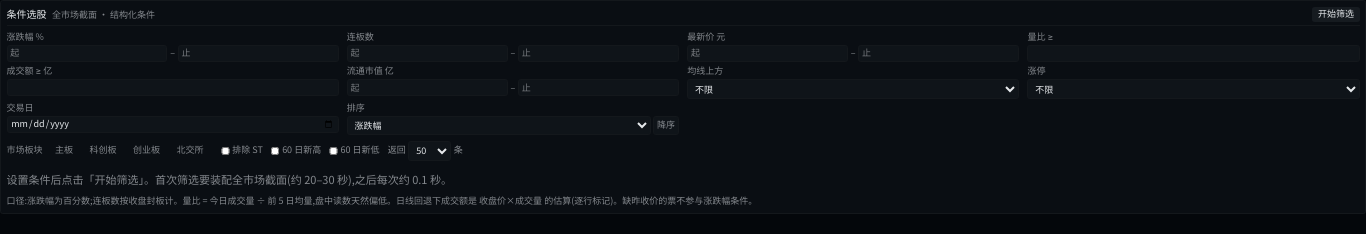
it: AshareScreenPanel › reports an empty cross-section as a data problem, not 'no match'
Step 1. Click the button with test id "screen-run" → (1336, 14), box [1312,6,1360,22]
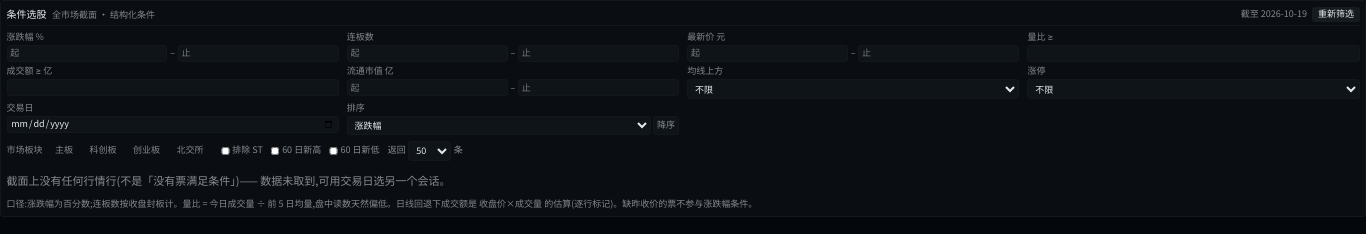
Check: the button with test id "screen-run" reads "重新筛选", box [1312,6,1360,22]
Check: the text with test id "screen-degraded" shows "不是「没有票满足条件」", box [6,172,450,188]
